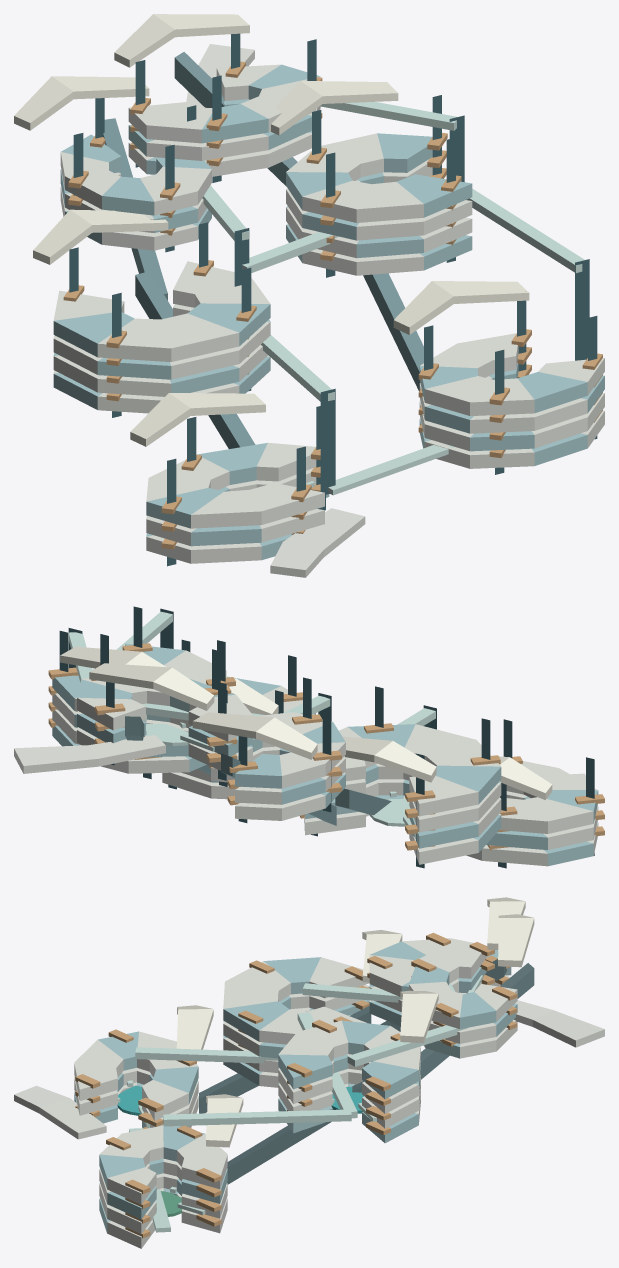
Rendered from R14_INHABITED_WORLD_PILOT.glb.
3 renders of one model, top to bottom at view 1: azimuth 30°, elevation 25°; view 2: azimuth 150°, elevation 25°; view 3: azimuth 270°, elevation 25°, orthographic. The views are drawn at different scales.
Parts seen in each view (by area): view 1: D02_TIDE_GARDEN_INHABITED_SKY_CREST, D01_ORIGIN_CAVERN_INHABITED_SKY_CREST, D06_VERTICAL_HARBOR_INHABITED_SKY_CREST, D05_HANGING_FOREST_INHABITED_SKY_CREST, D03_OVERHANG_COMMUNE_INHABITED_SKY_CREST, SOUTH_EXTERNAL_STREET, D04_SKYWEAVE_INHABITED_SKY_CREST, D03_OVERHANG_COMMUNE_INHABITED_DISTRICT_SECTOR_3_3, CITY_VOID_LONGITUDINAL_HABITABLE_STRUT_1, D03_OVERHANG_COMMUNE_INHABITED_DISTRICT_SECTOR_3_2, CITY_VOID_LONGITUDINAL_HABITABLE_STRUT_0, WORLD_LINK_GLASS_CROSSING_UPPER_TRAVERSE (+79 smaller); view 2: NORTH_EXIT_STREET, D06_VERTICAL_HARBOR_INHABITED_SKY_CREST, D05_HANGING_FOREST_INHABITED_SKY_CREST, D03_OVERHANG_COMMUNE_INHABITED_SKY_CREST, D03_OVERHANG_COMMUNE_INHABITED_DISTRICT_SECTOR_3_0, D01_ORIGIN_CAVERN_INHABITED_DISTRICT_SECTOR_2_3, D03_OVERHANG_COMMUNE_INHABITED_DISTRICT_SECTOR_3_1, D04_SKYWEAVE_INHABITED_SKY_CREST, D03_OVERHANG_COMMUNE_INHABITED_DISTRICT_SECTOR_3_3, D01_ORIGIN_CAVERN_INHABITED_SKY_CREST, D06_VERTICAL_HARBOR_INHABITED_DISTRICT_SECTOR_2_6, D05_HANGING_FOREST_INHABITED_DISTRICT_SECTOR_2_0 (+60 smaller); view 3: WORLD_LINK_GLASS_CROSSING_UPPER_TRAVERSE, SOUTH_EXTERNAL_STREET, NORTH_EXIT_STREET, CITY_VOID_LONGITUDINAL_HABITABLE_STRUT_1, D04_SKYWEAVE_INHABITED_SKY_CREST, D06_VERTICAL_HARBOR_INHABITED_SKY_CREST, WORLD_LINK_OVERHANG_RISE_UPPER_TRAVERSE, D01_ORIGIN_CAVERN_INHABITED_SKY_CREST, WORLD_LINK_NORTHERN_UMBRA_SPAN_UPPER_TRAVERSE, D03_OVERHANG_COMMUNE_INHABITED_DISTRICT_SECTOR_3_4, D02_TIDE_GARDEN_INHABITED_SKY_CREST, D04_SKYWEAVE_INHABITED_DISTRICT_SECTOR_3_6 (+55 smaller).
Part boxes in pixels (box(x1,y1,x2,y2)): D02_TIDE_GARDEN_INHABITED_SKY_CREST: box(393, 281, 529, 334); D01_ORIGIN_CAVERN_INHABITED_SKY_CREST: box(130, 393, 265, 446); D06_VERTICAL_HARBOR_INHABITED_SKY_CREST: box(114, 14, 249, 67); D05_HANGING_FOREST_INHABITED_SKY_CREST: box(14, 76, 149, 130); D03_OVERHANG_COMMUNE_INHABITED_SKY_CREST: box(33, 209, 168, 264); SOUTH_EXTERNAL_STREET: box(270, 508, 365, 577); D04_SKYWEAVE_INHABITED_SKY_CREST: box(271, 81, 398, 135); D03_OVERHANG_COMMUNE_INHABITED_DISTRICT_SECTOR_3_3: box(161, 313, 239, 361); CITY_VOID_LONGITUDINAL_HABITABLE_STRUT_1: box(363, 273, 423, 391); D03_OVERHANG_COMMUNE_INHABITED_DISTRICT_SECTOR_3_2: box(97, 318, 171, 361); CITY_VOID_LONGITUDINAL_HABITABLE_STRUT_0: box(135, 271, 255, 448); WORLD_LINK_GLASS_CROSSING_UPPER_TRAVERSE: box(466, 188, 584, 273); NORTH_EXIT_STREET: box(14, 735, 165, 773); D06_VERTICAL_HARBOR_INHABITED_SKY_CREST: box(89, 663, 214, 710); D05_HANGING_FOREST_INHABITED_SKY_CREST: box(192, 712, 317, 759); D03_OVERHANG_COMMUNE_INHABITED_SKY_CREST: box(343, 736, 436, 782); D03_OVERHANG_COMMUNE_INHABITED_DISTRICT_SECTOR_3_0: box(409, 776, 478, 816); D01_ORIGIN_CAVERN_INHABITED_DISTRICT_SECTOR_2_3: box(523, 797, 593, 833); D03_OVERHANG_COMMUNE_INHABITED_DISTRICT_SECTOR_3_1: box(435, 765, 501, 804); D04_SKYWEAVE_INHABITED_SKY_CREST: box(60, 646, 166, 668); D03_OVERHANG_COMMUNE_INHABITED_DISTRICT_SECTOR_3_3: box(404, 724, 476, 760); D01_ORIGIN_CAVERN_INHABITED_SKY_CREST: box(499, 756, 552, 799); D06_VERTICAL_HARBOR_INHABITED_DISTRICT_SECTOR_2_6: box(77, 697, 145, 730); D05_HANGING_FOREST_INHABITED_DISTRICT_SECTOR_2_0: box(235, 754, 281, 788); WORLD_LINK_GLASS_CROSSING_UPPER_TRAVERSE: box(163, 1109, 351, 1126); SOUTH_EXTERNAL_STREET: box(14, 1085, 106, 1139); NORTH_EXIT_STREET: box(514, 1000, 604, 1047); CITY_VOID_LONGITUDINAL_HABITABLE_STRUT_1: box(227, 1081, 363, 1184); D04_SKYWEAVE_INHABITED_SKY_CREST: box(400, 990, 438, 1043); D06_VERTICAL_HARBOR_INHABITED_SKY_CREST: box(498, 914, 534, 967); WORLD_LINK_OVERHANG_RISE_UPPER_TRAVERSE: box(135, 1047, 278, 1063); D01_ORIGIN_CAVERN_INHABITED_SKY_CREST: box(176, 1005, 213, 1049); WORLD_LINK_NORTHERN_UMBRA_SPAN_UPPER_TRAVERSE: box(347, 1025, 467, 1066); D03_OVERHANG_COMMUNE_INHABITED_DISTRICT_SECTOR_3_4: box(223, 1001, 289, 1041); D02_TIDE_GARDEN_INHABITED_SKY_CREST: box(206, 1094, 243, 1147); D04_SKYWEAVE_INHABITED_DISTRICT_SECTOR_3_6: box(278, 1054, 332, 1089).
Size of the model in its own units: 1122 by 732 by 1495.
